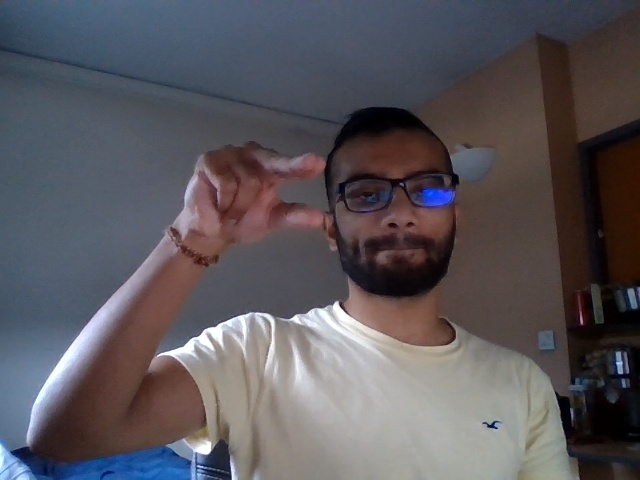No: (169, 135, 340, 243)
